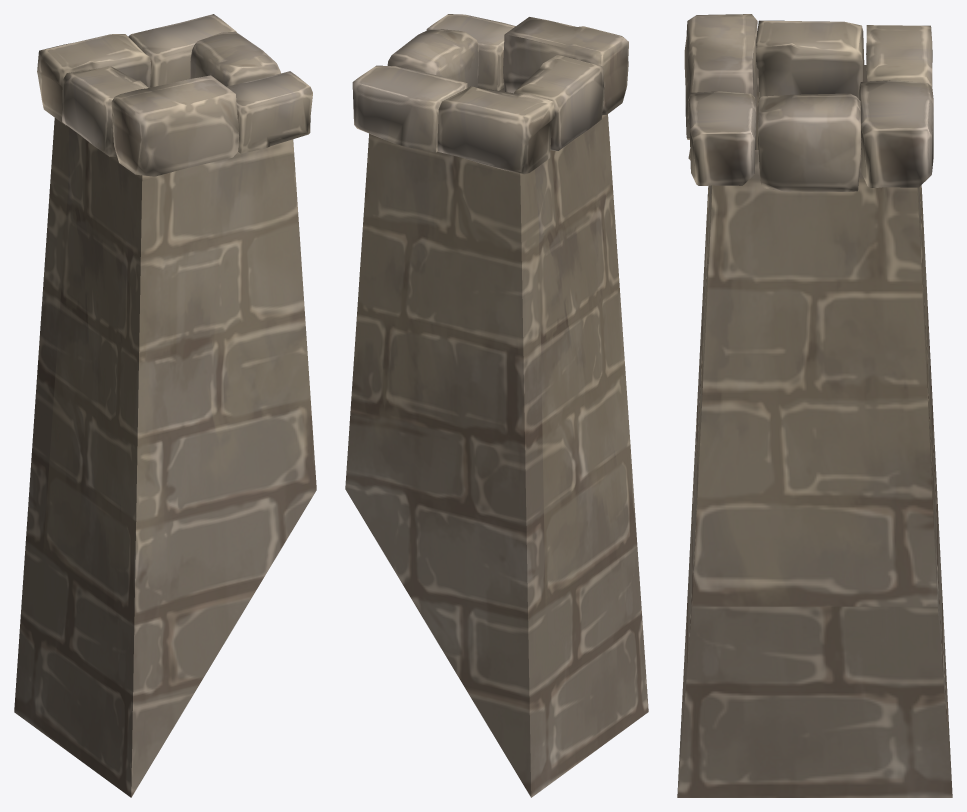
File: Prop_Chimney.gltf
3 renders of one model, left to right at view 1: azimuth 30°, elevation 25°; view 2: azimuth 150°, elevation 25°; view 3: azimuth 270°, elevation 25°, orthographic. The views are drawn at different scales.
Parts seen in each view (by area): view 1: Prop_Chimney; view 2: Prop_Chimney; view 3: Prop_Chimney.
Part boxes in pixels (left/top/right/bottom): Prop_Chimney: left=14, top=14, right=316, bottom=797; Prop_Chimney: left=345, top=14, right=648, bottom=797; Prop_Chimney: left=677, top=14, right=952, bottom=797.
Bounding box in the file's own units: 0.9458 × 3.18 × 1.
Materials: 2 (2 with a texture image).
